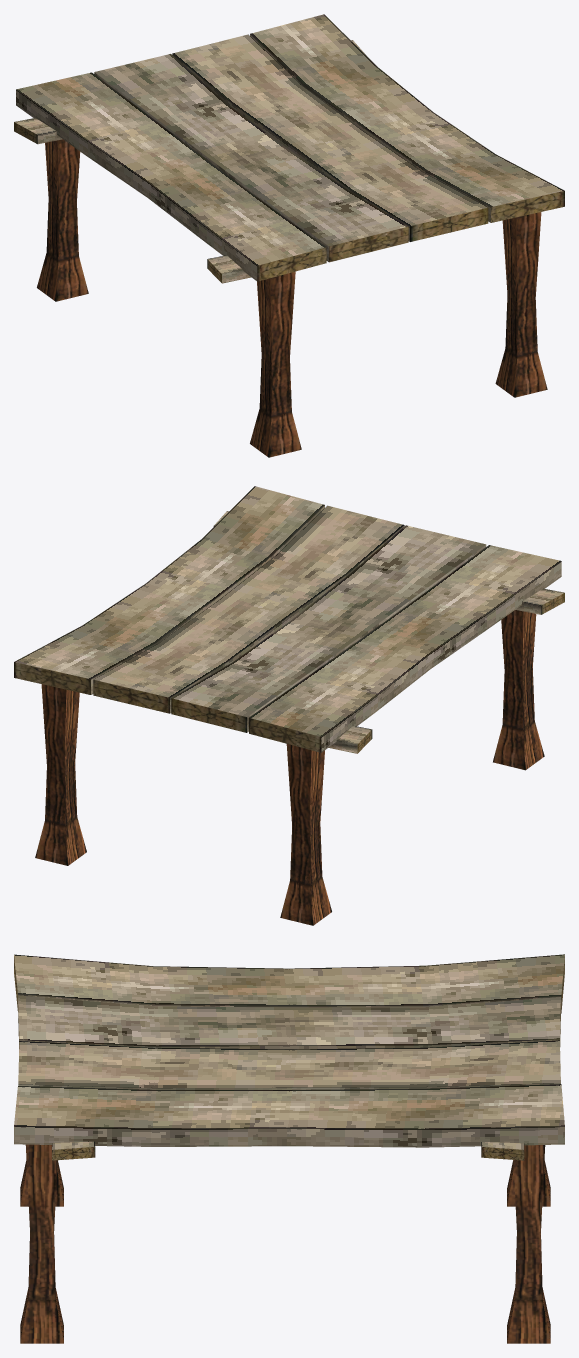
Rendered from INST_LT_SM_TABLE.fbx.
3 renders of one model, top to bottom at view 1: azimuth 30°, elevation 25°; view 2: azimuth 150°, elevation 25°; view 3: azimuth 270°, elevation 25°, orthographic. The views are drawn at different scales.
Parts seen in each view (by area): view 1: INST_LT_SM_TABLE; view 2: INST_LT_SM_TABLE; view 3: INST_LT_SM_TABLE.
Part boxes in pixels (bbox=[...]): INST_LT_SM_TABLE: bbox=[14, 14, 564, 457]; INST_LT_SM_TABLE: bbox=[14, 486, 564, 925]; INST_LT_SM_TABLE: bbox=[14, 954, 564, 1343].
Size of the model in its own units: 14826 by 8272 by 18308.
Materials: 3 (3 with a texture image).
